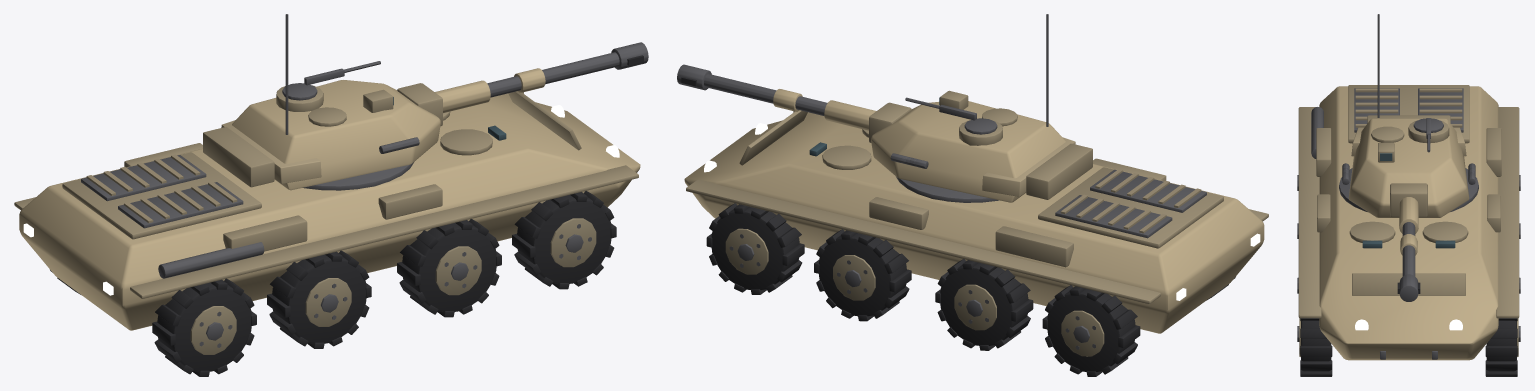
File: tank.glb
3 renders of one model, left to right at view 1: azimuth 30°, elevation 25°; view 2: azimuth 150°, elevation 25°; view 3: azimuth 270°, elevation 25°, orthographic. The views are drawn at different scales.
Parts seen in each view (by area): view 1: hull, turret, wheel_R1, wheel_R2, wheel_R4, wheel_R3, barrel; view 2: hull, turret, wheel_L1, wheel_L3, wheel_L2, wheel_L4, barrel; view 3: hull, turret, barrel, wheel_L1, wheel_R1.
Part boxes in pixels (x1,y1,x2,y2): hull: (14,91,640,330); turret: (203,14,440,190); wheel_R1: (512,191,616,289); wheel_R2: (397,219,501,317); wheel_R4: (152,278,256,376); wheel_R3: (267,250,371,348); barrel: (397,42,648,126); hull: (684,110,1268,333); turret: (871,14,1092,202); wheel_L1: (706,203,804,294); wheel_L3: (935,259,1033,350); wheel_L2: (814,229,911,321); wheel_L4: (1042,285,1140,376); barrel: (677,64,911,142); hull: (1298,85,1519,360); turret: (1342,14,1475,217); barrel: (1390,183,1427,301); wheel_L1: (1485,318,1520,376); wheel_R1: (1297,318,1332,376).
Size of the model in its own units: 7.54 by 3.74 by 2.94.
